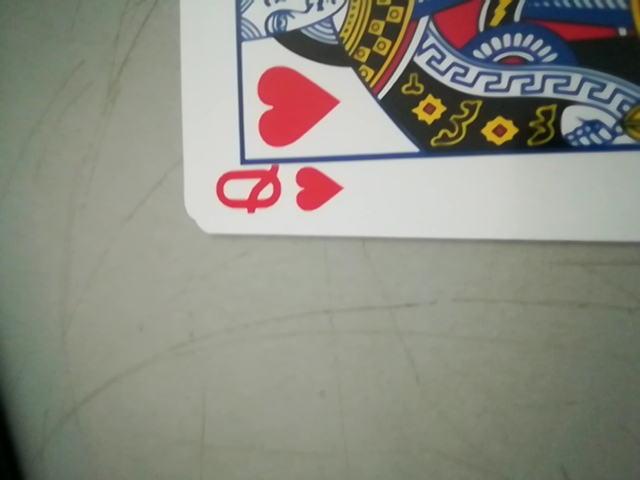hx q: (211, 158, 347, 226)
